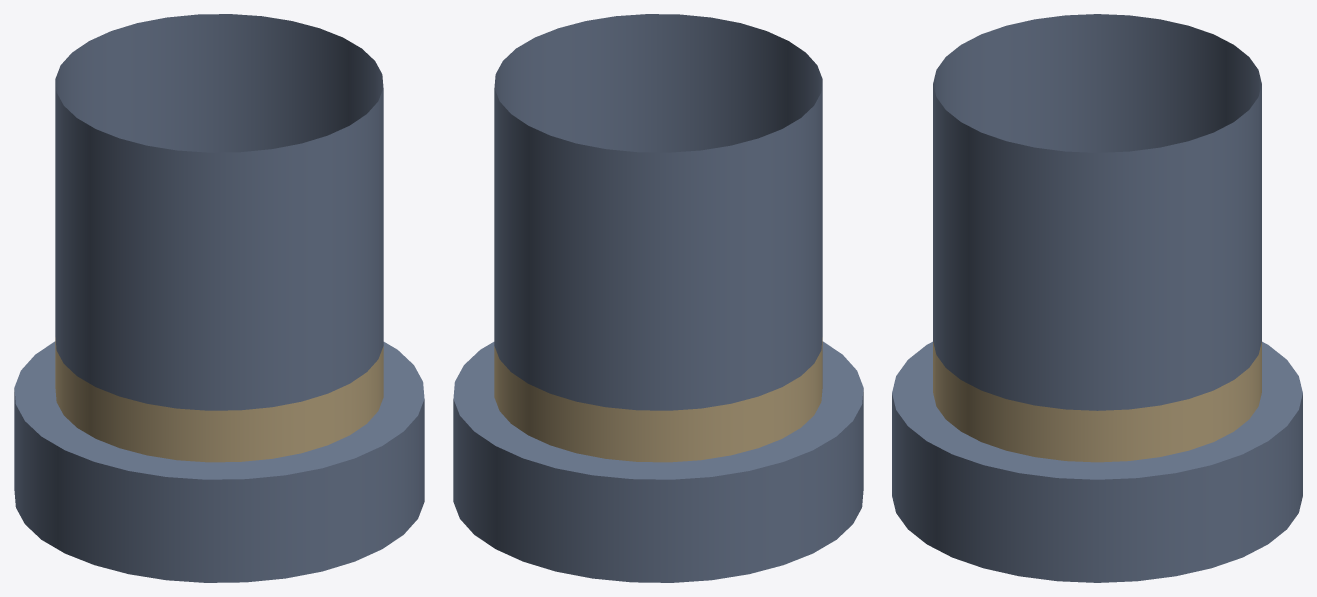
File: Pillar_bottom.fbx
3 renders of one model, left to right at view 1: azimuth 30°, elevation 25°; view 2: azimuth 150°, elevation 25°; view 3: azimuth 270°, elevation 25°, orthographic.
Visible parts, largest first — view 1: Pillar_bottom; view 2: Pillar_bottom; view 3: Pillar_bottom.
Part boxes in pixels (x1,y1,x2,y2): Pillar_bottom: (14,14,424,582); Pillar_bottom: (453,14,863,582); Pillar_bottom: (892,14,1302,582).
Bounding box in the file's own units: 180 × 200 × 180.
